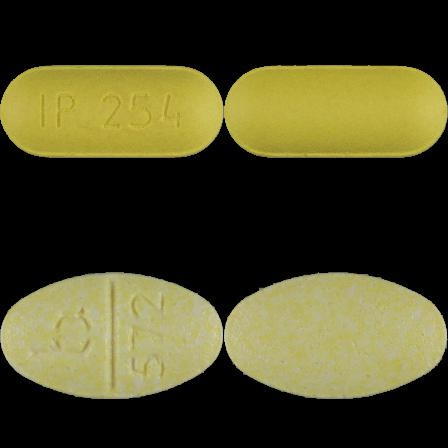21695-110: (0, 0, 224, 224)
